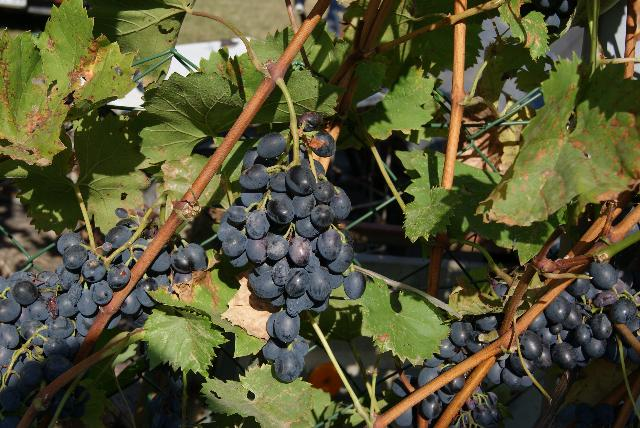grapes: (218, 132, 366, 382), (0, 218, 150, 394), (488, 261, 640, 388), (105, 240, 208, 329), (411, 310, 504, 389), (419, 371, 470, 421), (451, 388, 501, 428)
